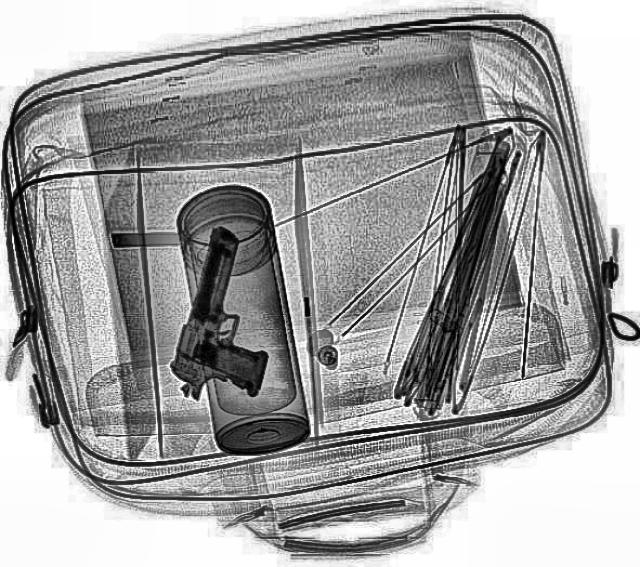Gun: (156, 223, 308, 412)
